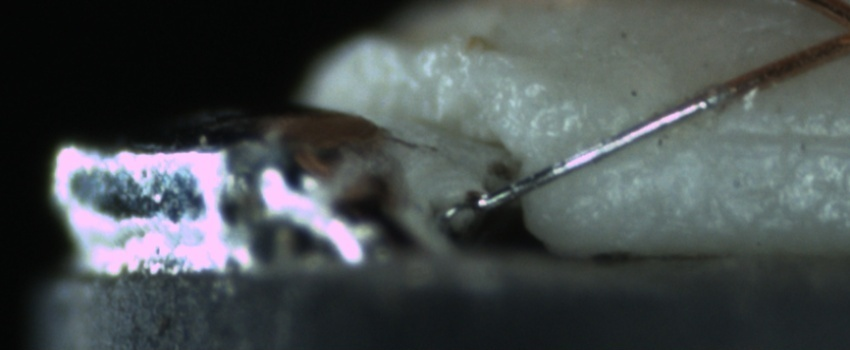CL: (825, 6, 850, 54)
DL: (688, 103, 849, 171)
TS: (477, 80, 714, 215)
TTCW: (471, 45, 785, 217)
